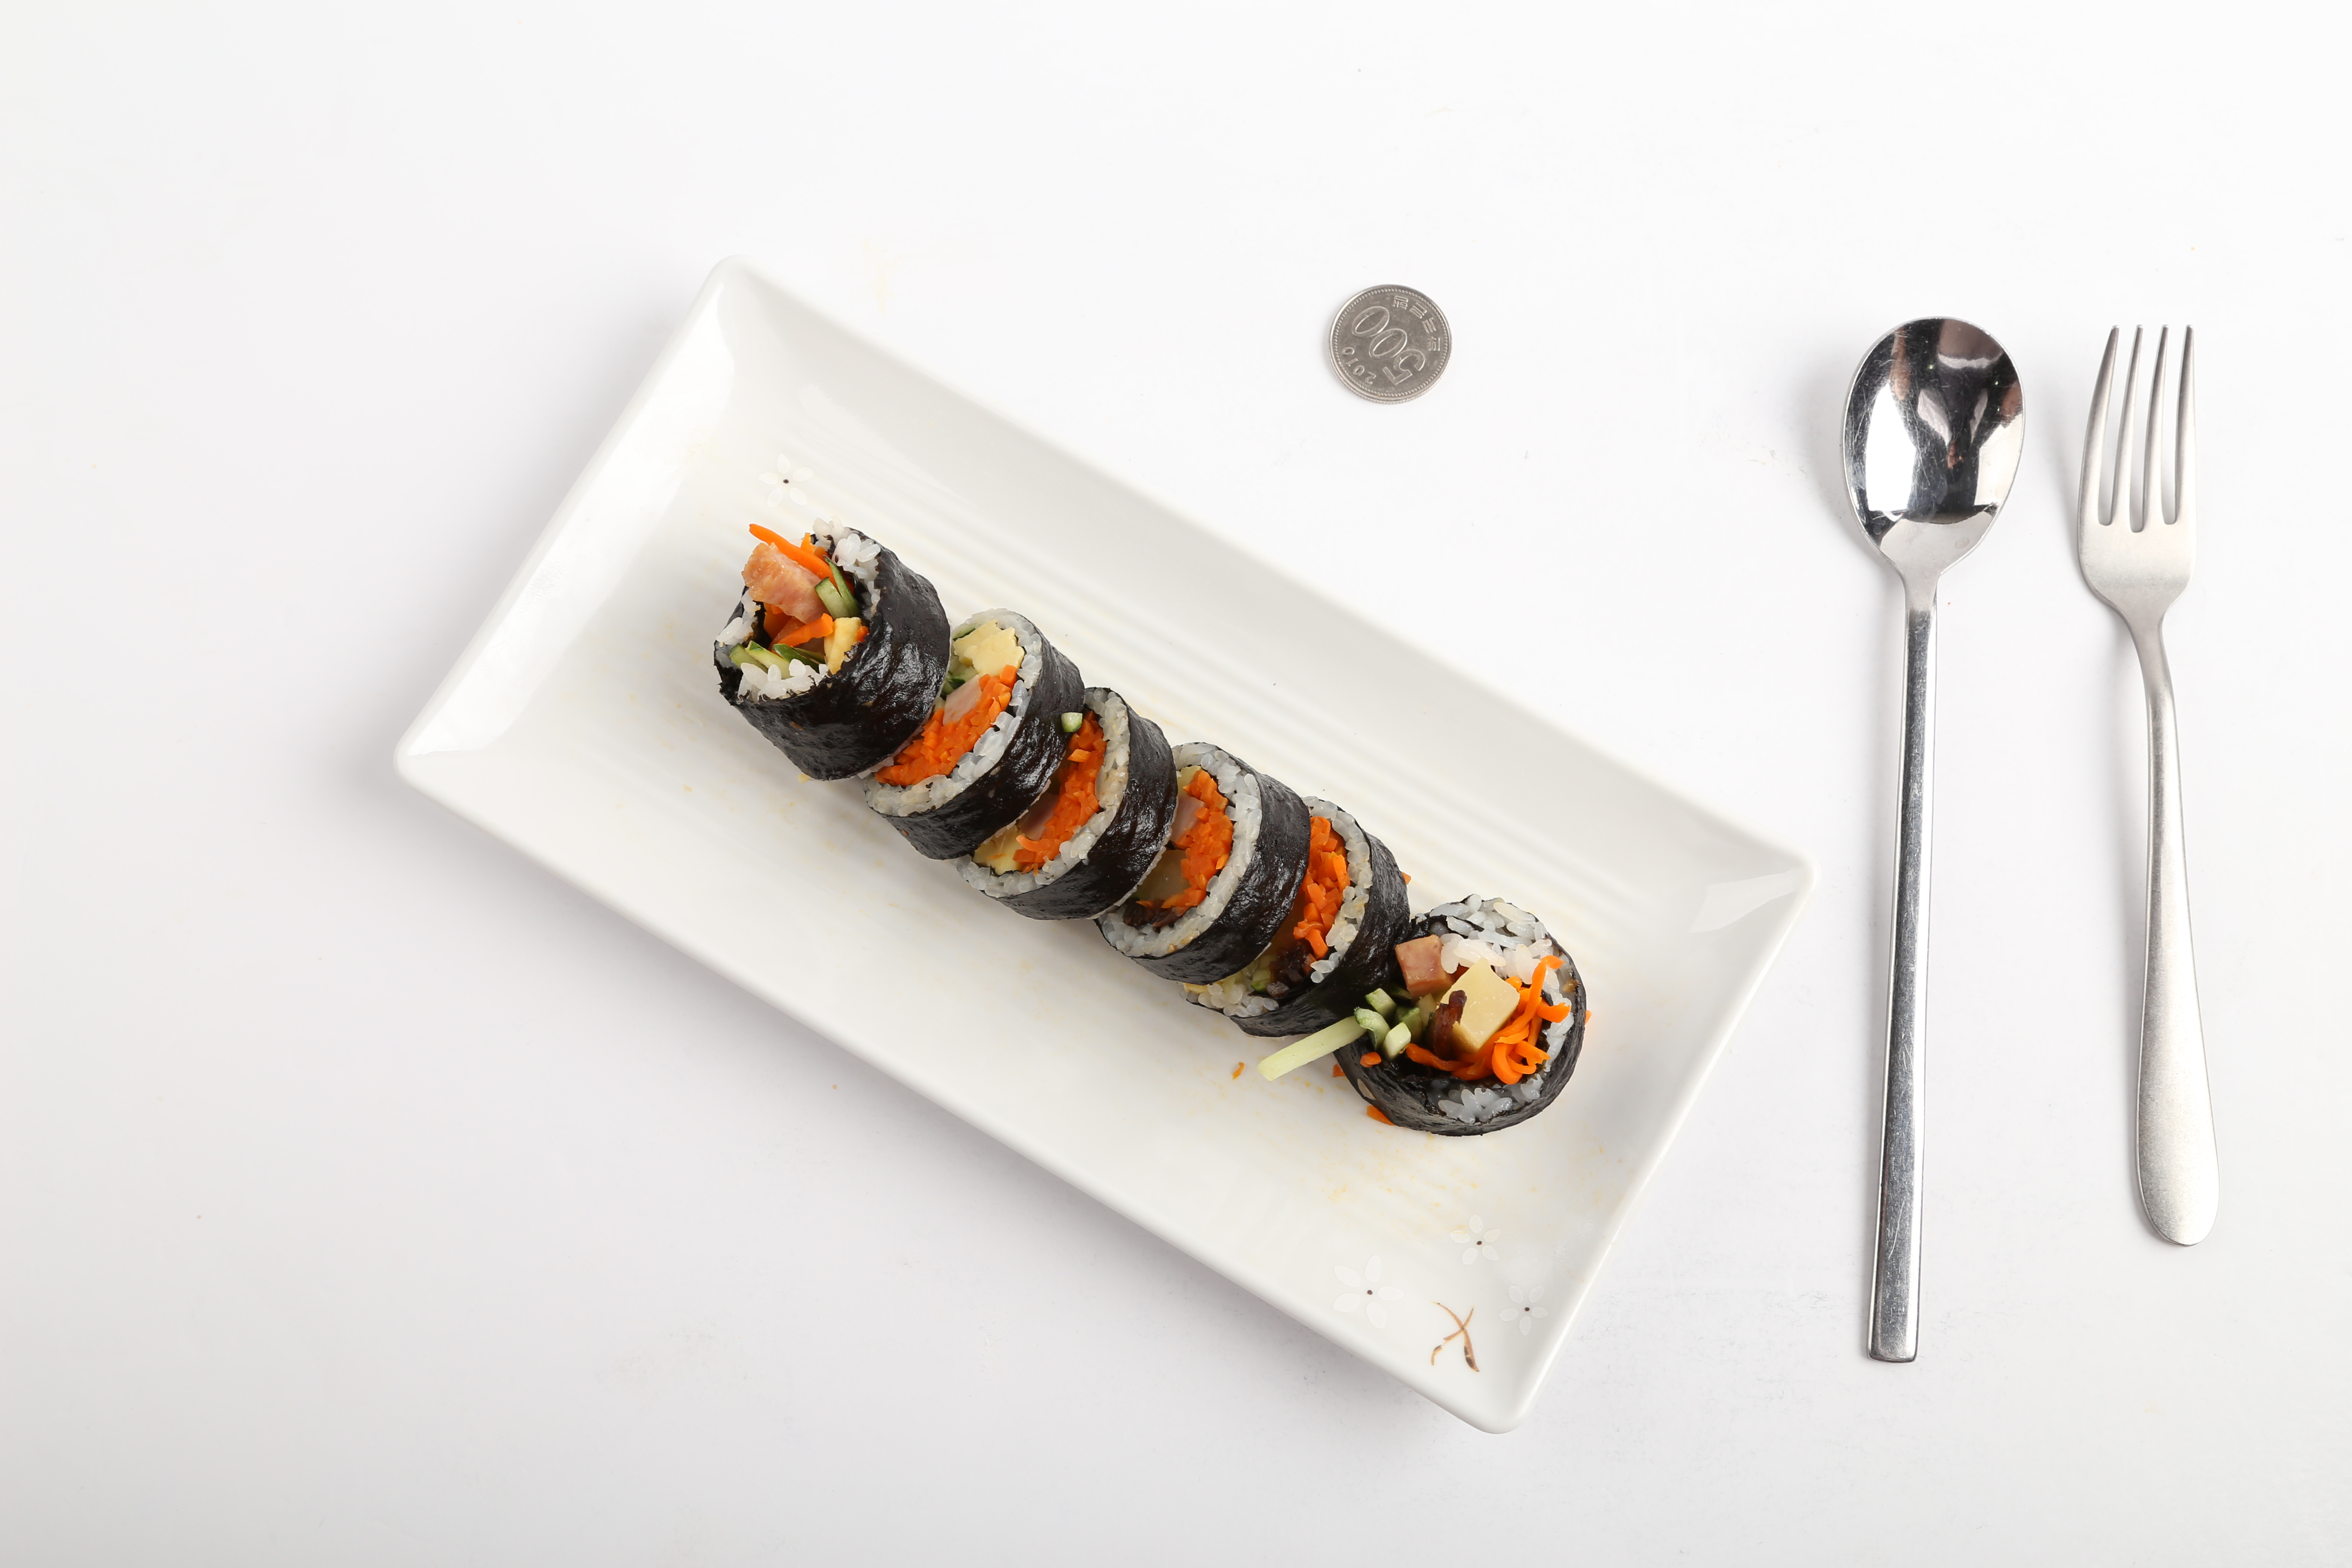dish: (383, 254, 1818, 1433)
ref_coin: (1321, 276, 1456, 406)
ref_fork: (2072, 318, 2194, 667)
ref_spoon: (1839, 311, 2028, 621)
김밥: (707, 520, 1589, 1137)
